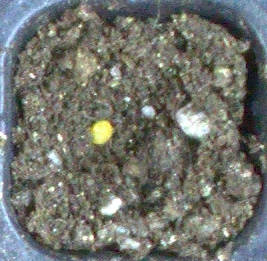chilli seed: (92, 120, 112, 144)
